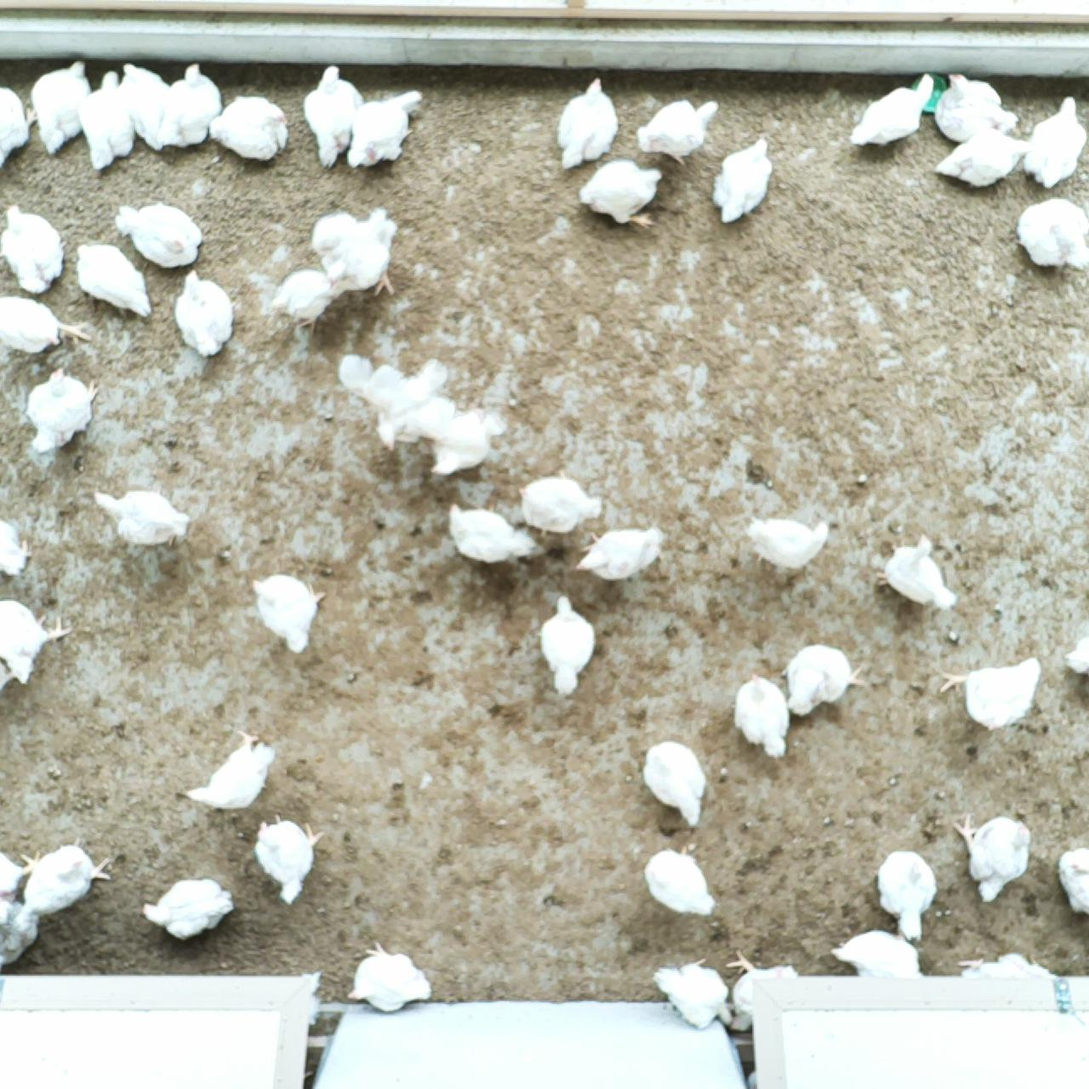chicken: (342, 353, 441, 449), (956, 808, 1032, 904), (184, 731, 275, 809), (848, 69, 934, 148), (943, 659, 1041, 728), (0, 598, 71, 689), (935, 125, 1030, 193), (303, 66, 366, 167), (877, 535, 956, 615), (26, 367, 101, 451), (30, 58, 94, 155), (141, 874, 235, 940), (1022, 96, 1089, 188), (786, 638, 862, 719), (77, 71, 140, 168), (250, 575, 324, 657), (25, 845, 108, 918), (935, 73, 1019, 145), (445, 502, 539, 565), (93, 489, 190, 550), (346, 944, 432, 1012), (255, 818, 323, 904), (347, 88, 420, 168), (580, 159, 665, 227), (1014, 194, 1089, 271), (555, 78, 618, 168), (636, 98, 718, 167), (710, 138, 775, 224), (77, 242, 151, 317), (118, 201, 202, 267), (539, 595, 596, 692), (210, 93, 288, 163), (0, 202, 60, 292), (160, 63, 222, 150), (727, 950, 794, 1030), (643, 742, 707, 825), (175, 269, 234, 359), (653, 961, 732, 1028), (117, 63, 177, 151), (519, 472, 602, 533), (877, 850, 934, 938), (324, 234, 399, 300), (647, 848, 716, 918), (576, 529, 665, 581), (832, 930, 928, 978), (734, 675, 789, 757), (748, 516, 827, 572), (428, 409, 490, 476), (274, 264, 333, 330), (316, 211, 386, 265), (0, 296, 61, 356), (0, 900, 42, 971), (956, 952, 1060, 980), (0, 841, 39, 909), (0, 81, 27, 174), (1060, 844, 1089, 915), (0, 518, 33, 578), (1068, 632, 1089, 676)
